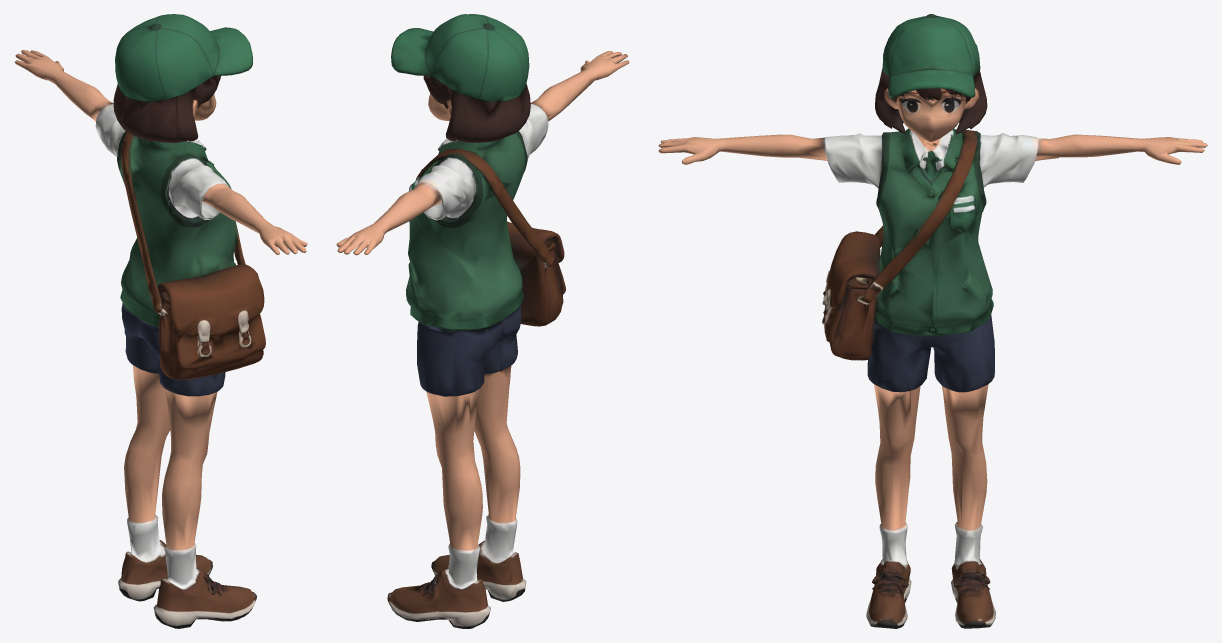
Rendered from player.glb.
3 renders of one model, left to right at view 1: azimuth 30°, elevation 25°; view 2: azimuth 150°, elevation 25°; view 3: azimuth 270°, elevation 25°, orthographic.
Visible parts, largest first — view 1: tripo_node_7ab55462-9abb-4f2b-a30b-aa8724aee034; view 2: tripo_node_7ab55462-9abb-4f2b-a30b-aa8724aee034; view 3: tripo_node_7ab55462-9abb-4f2b-a30b-aa8724aee034.
Boxes of the visible parts, x1,y1,x2,y2 form: tripo_node_7ab55462-9abb-4f2b-a30b-aa8724aee034: [14, 14, 307, 628]; tripo_node_7ab55462-9abb-4f2b-a30b-aa8724aee034: [336, 14, 629, 628]; tripo_node_7ab55462-9abb-4f2b-a30b-aa8724aee034: [658, 14, 1207, 628].
Size of the model in its own units: 0.218 by 0.9996 by 0.8496.
Materials: 1 (1 with a texture image).
